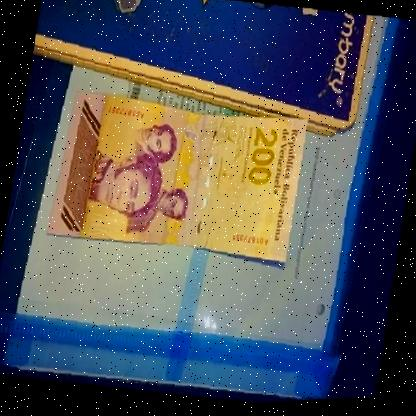two_hundred-front-vef: (43, 79, 308, 276)
